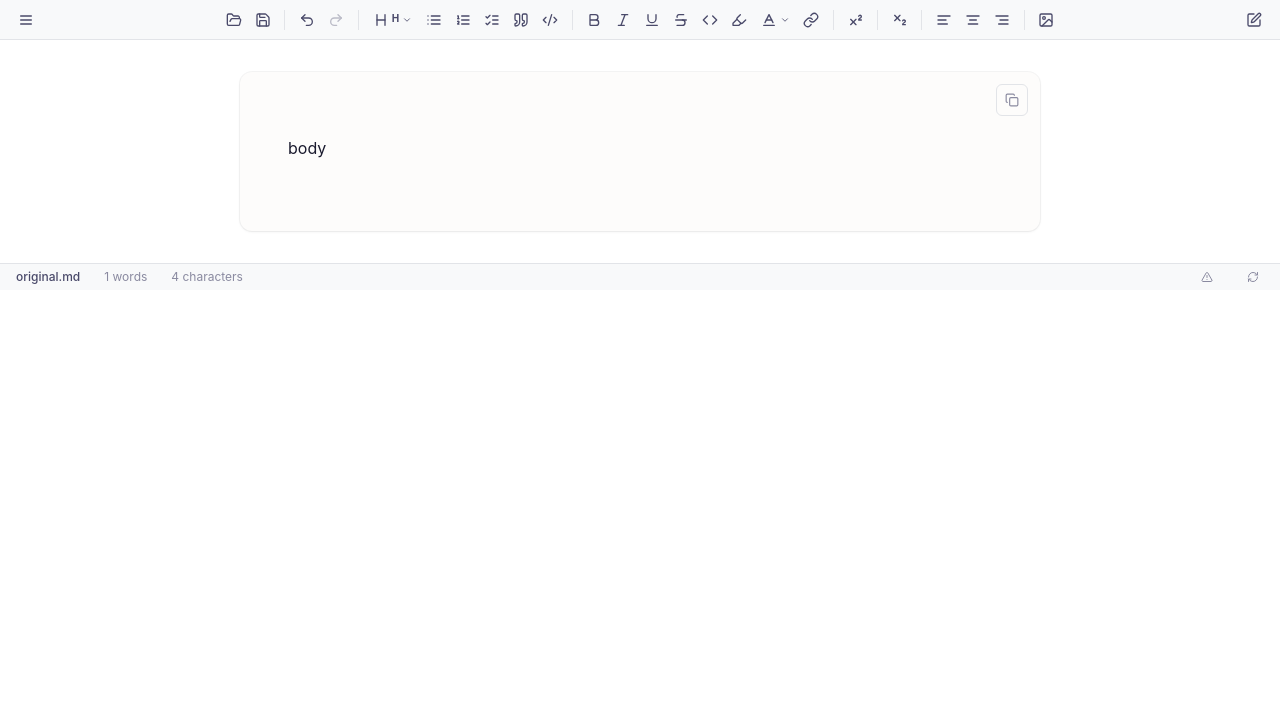
Test: Editor › offers a save-as retry when the known file path no longer exists
The width and height of the screenshot is (1280, 720).
Expected: the text "original.md" is shown, top-left (16, 269), bottom-right (80, 284)
Click the button named "save file" at [263, 20], box top-left (249, 6), bottom-right (277, 34)
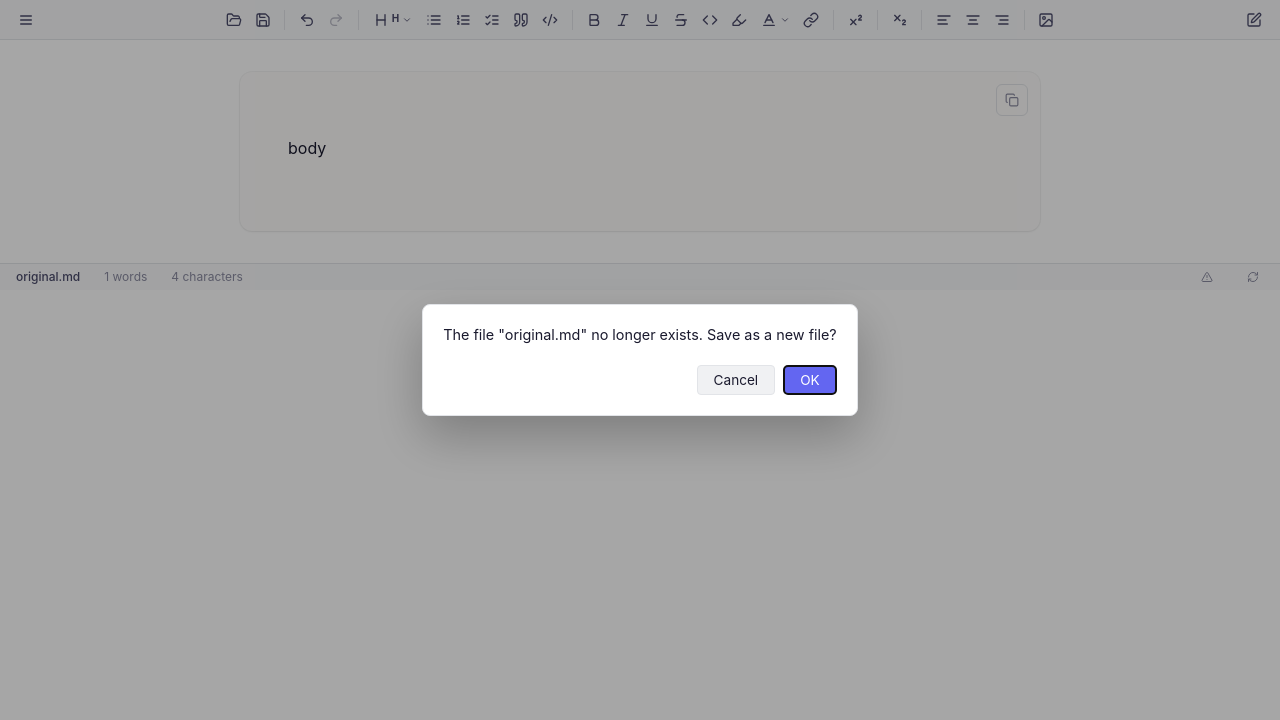
Note: The in-app confirm asks whether to save as a new file. Click OK.
Click the button "OK" at [810, 380], box top-left (783, 365), bottom-right (837, 396)
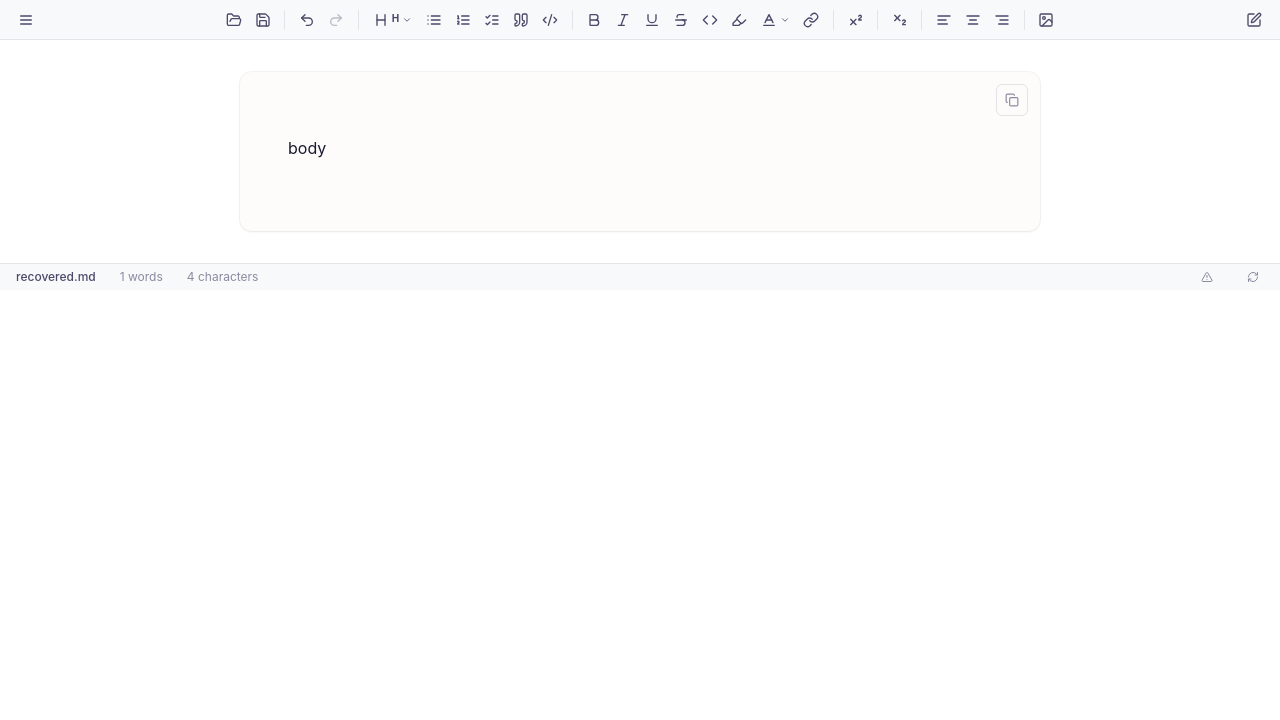
Expected: the text "recovered.md" is shown, top-left (16, 269), bottom-right (96, 284)
